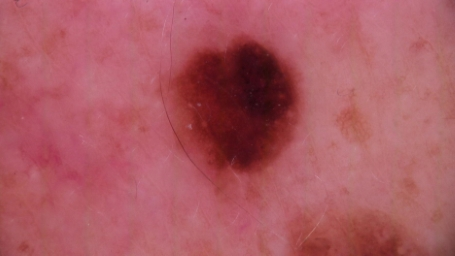nevus: (182, 39, 299, 181)
